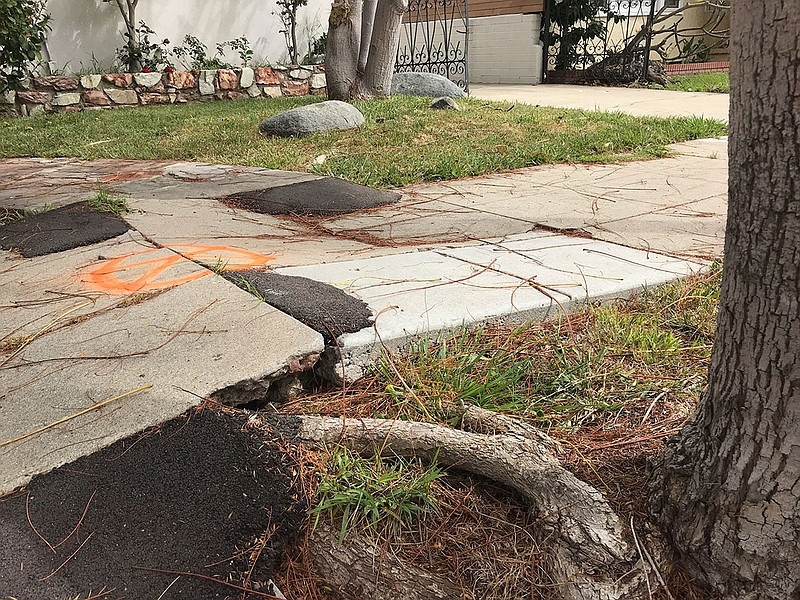pothole: (234, 314, 444, 432), (201, 156, 413, 238), (1, 158, 166, 262)
